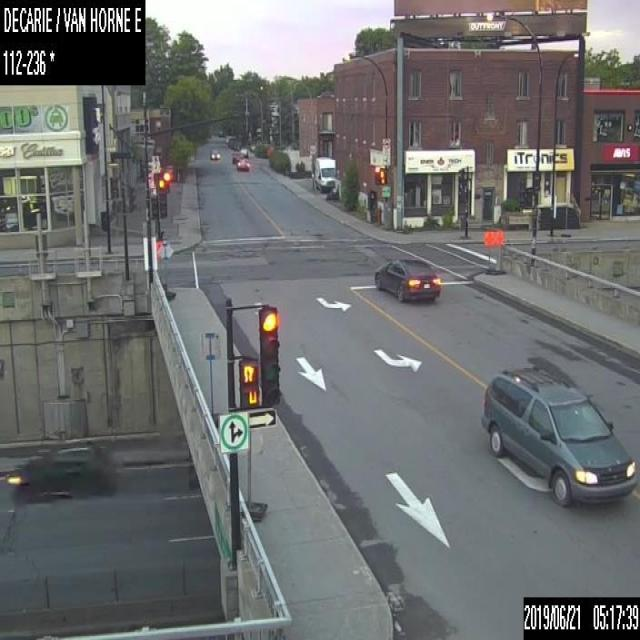construction: (238, 427, 267, 521), (202, 328, 227, 426), (157, 237, 177, 300), (494, 227, 504, 273), (484, 227, 493, 274)
vehicle: (479, 362, 639, 507), (5, 439, 108, 501), (373, 255, 440, 302), (314, 155, 336, 192), (236, 148, 249, 170), (209, 149, 220, 160), (231, 152, 238, 163)
